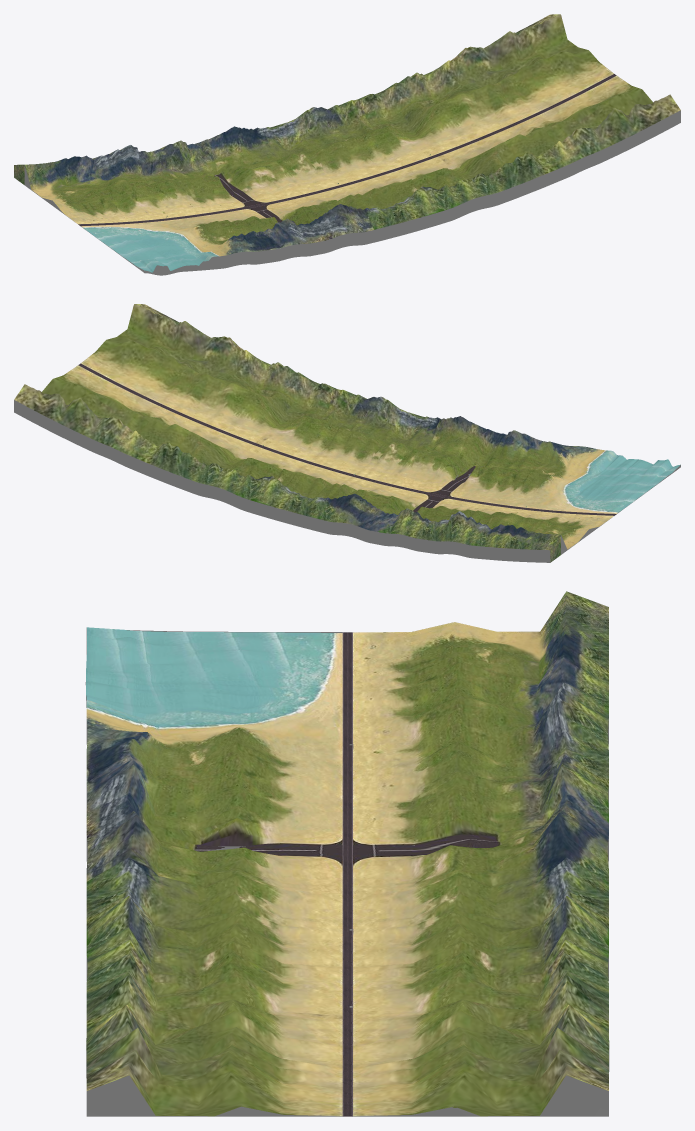
The model's file is colony_mountain_v10.glb.
The picture shows the model from 3 angles, top to bottom: view 1: azimuth 30°, elevation 25°; view 2: azimuth 150°, elevation 25°; view 3: azimuth 270°, elevation 25°; orthographic projection. The views are drawn at different scales.
Visible parts, largest first — view 1: mountain, mountain_sea, colony_road; view 2: mountain_sea, mountain, colony_road; view 3: mountain, mountain_sea, colony_road.
Part boxes in pixels (box(x1,y1,x2,y2)): mountain: box(14, 14, 680, 275); mountain_sea: box(81, 75, 680, 272); colony_road: box(78, 74, 616, 226); mountain_sea: box(81, 304, 680, 513); mountain: box(14, 313, 680, 562); colony_road: box(78, 363, 616, 515); mountain: box(85, 591, 609, 1116); mountain_sea: box(86, 627, 342, 1116); colony_road: box(342, 632, 352, 1116).
Bounding box in the file's own units: 1452 × 171 × 613.
Materials: 9 (6 with a texture image).
